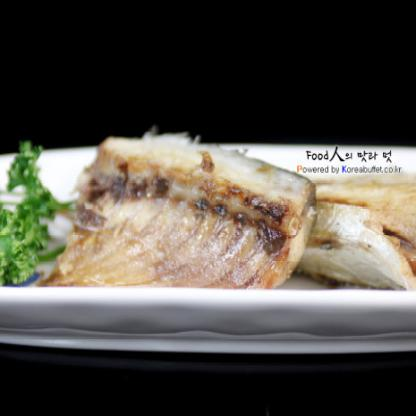Peixe: (65, 132, 416, 310)
